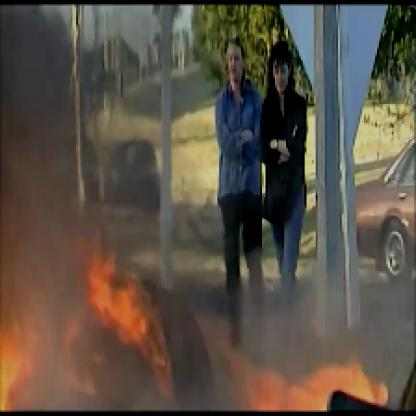Fire: (2, 236, 392, 414)
